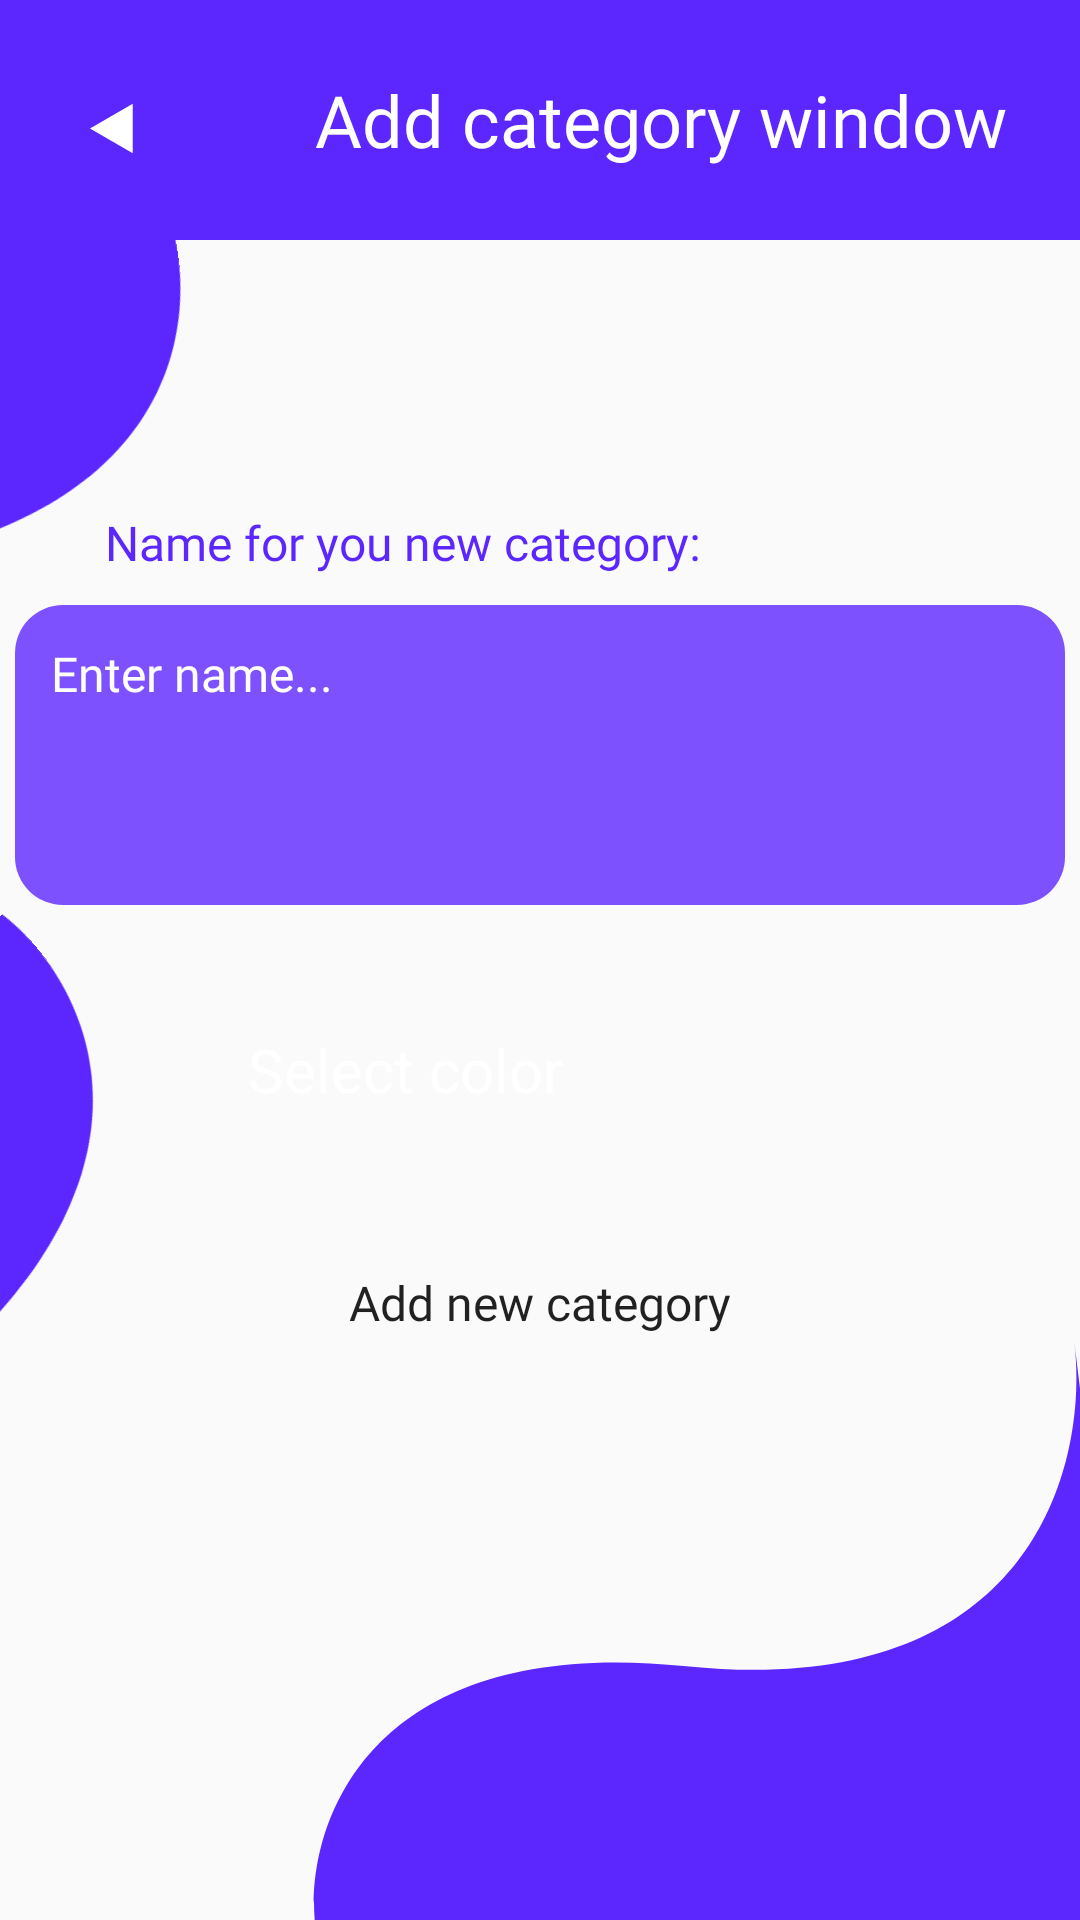

Point at icon controls on the screen. Image size 1080w x 1920h, points as (x=x, y=y).
back arrow: (x=111, y=128)
